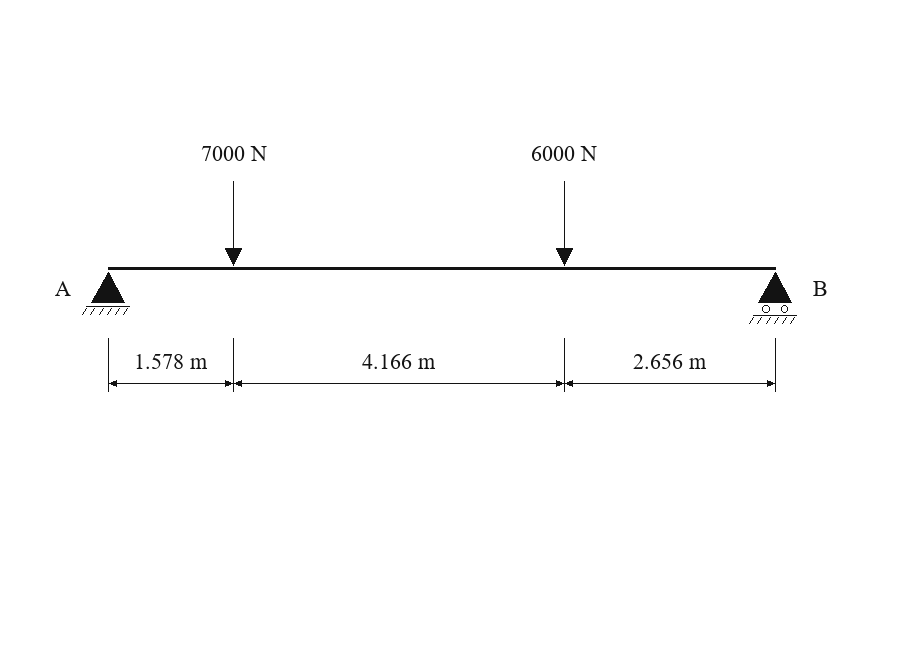pin_support: (82, 272, 130, 315)
point_load: (225, 181, 242, 266), (556, 181, 573, 266)
roller_support: (749, 272, 797, 324)
